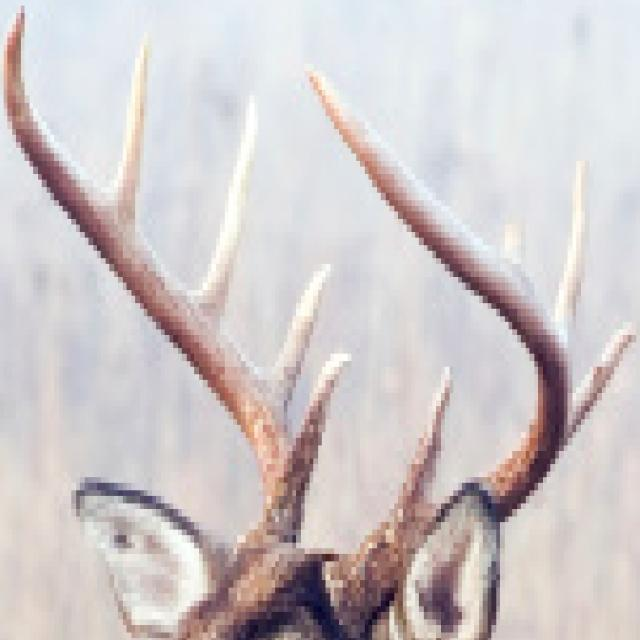L-G1: (389, 363, 454, 519)
R-G1: (286, 352, 352, 493)
R-G2: (266, 263, 335, 417)
R-G3: (191, 92, 259, 326)
R-G4: (106, 32, 150, 224)
